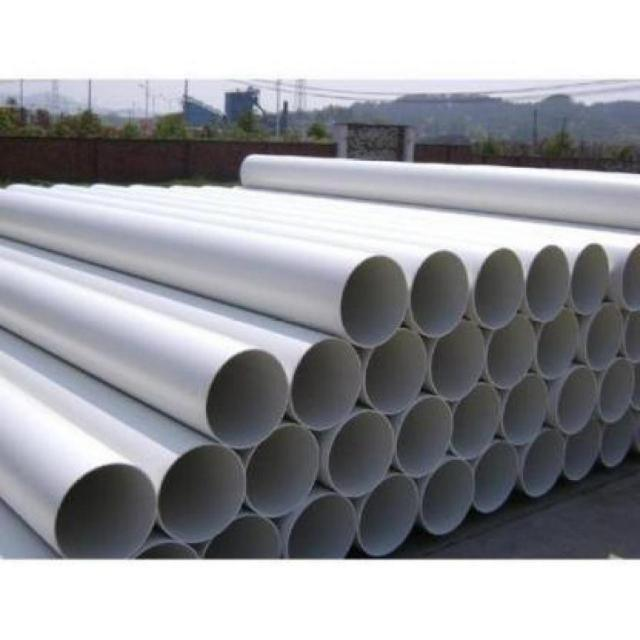pipe: (53, 462, 156, 560), (158, 443, 246, 543), (206, 348, 288, 450), (244, 423, 320, 517), (288, 339, 362, 430), (340, 254, 409, 348), (328, 410, 395, 498), (365, 330, 427, 415), (410, 249, 468, 337), (357, 474, 419, 556), (286, 493, 357, 560), (395, 395, 453, 477), (430, 320, 484, 402), (202, 511, 284, 564), (474, 248, 525, 330), (420, 457, 474, 534), (450, 383, 502, 459), (485, 314, 535, 390), (526, 244, 571, 323), (501, 373, 549, 446), (474, 441, 519, 514), (537, 308, 579, 381), (522, 429, 567, 497), (555, 366, 598, 434), (570, 242, 609, 315), (585, 303, 624, 371), (597, 358, 636, 423), (563, 418, 602, 480), (600, 408, 636, 466), (618, 242, 640, 316)
